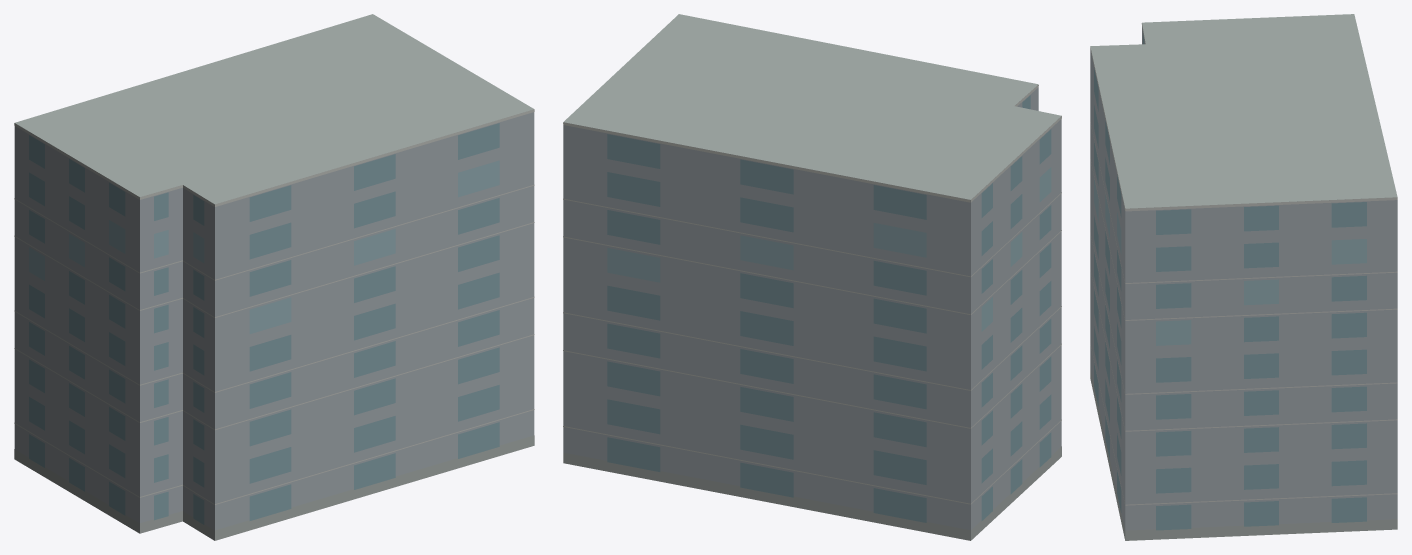
The model's file is survey-upis-32917277.glb.
3 renders of one model, left to right at view 1: azimuth 30°, elevation 25°; view 2: azimuth 150°, elevation 25°; view 3: azimuth 270°, elevation 25°, orthographic. The views are drawn at different scales.
Visible parts, largest first — view 1: survey-upis-32917277.tmp; view 2: survey-upis-32917277.tmp; view 3: survey-upis-32917277.tmp.
Boxes of the visible parts, x1,y1,x2,y2 form: survey-upis-32917277.tmp: (14,14,534,540); survey-upis-32917277.tmp: (563,14,1061,540); survey-upis-32917277.tmp: (1090,14,1397,540).
Size of the model in its own units: 36.9 by 29.35 by 24.63.
